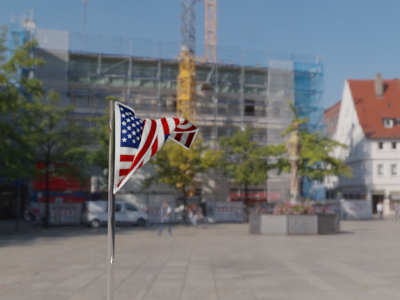America flag: (110, 99, 200, 195)
